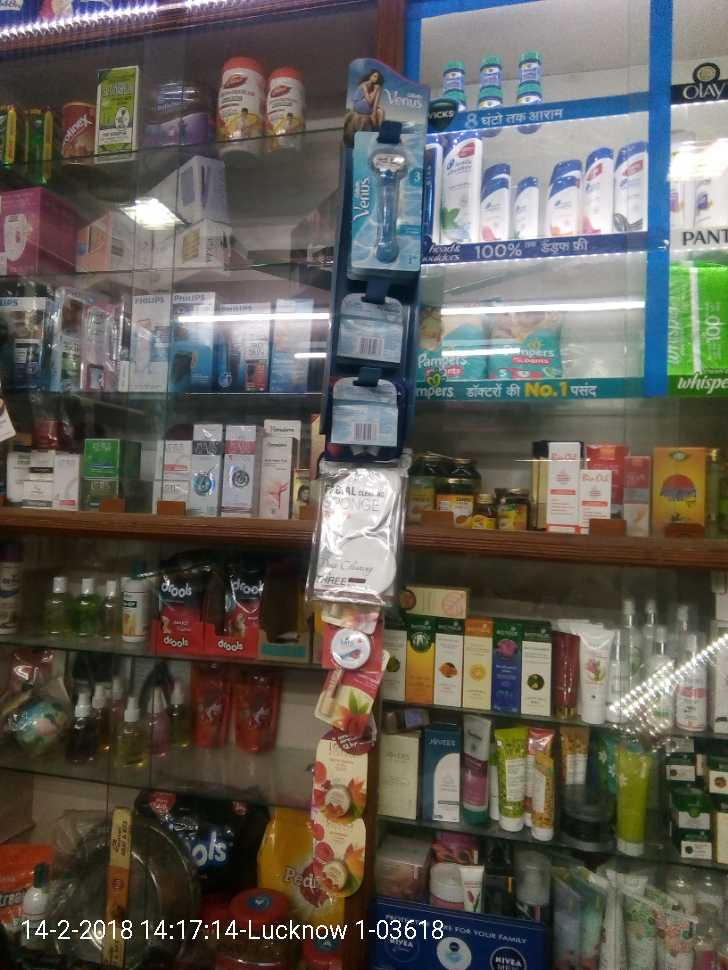beauty: (350, 140, 424, 275), (442, 131, 480, 244), (615, 142, 647, 235), (581, 148, 612, 237), (541, 171, 581, 237), (475, 176, 511, 239), (513, 178, 541, 236)
pharmacy: (484, 303, 563, 377), (417, 302, 486, 382), (514, 50, 545, 83), (475, 56, 503, 87), (439, 59, 464, 91)
